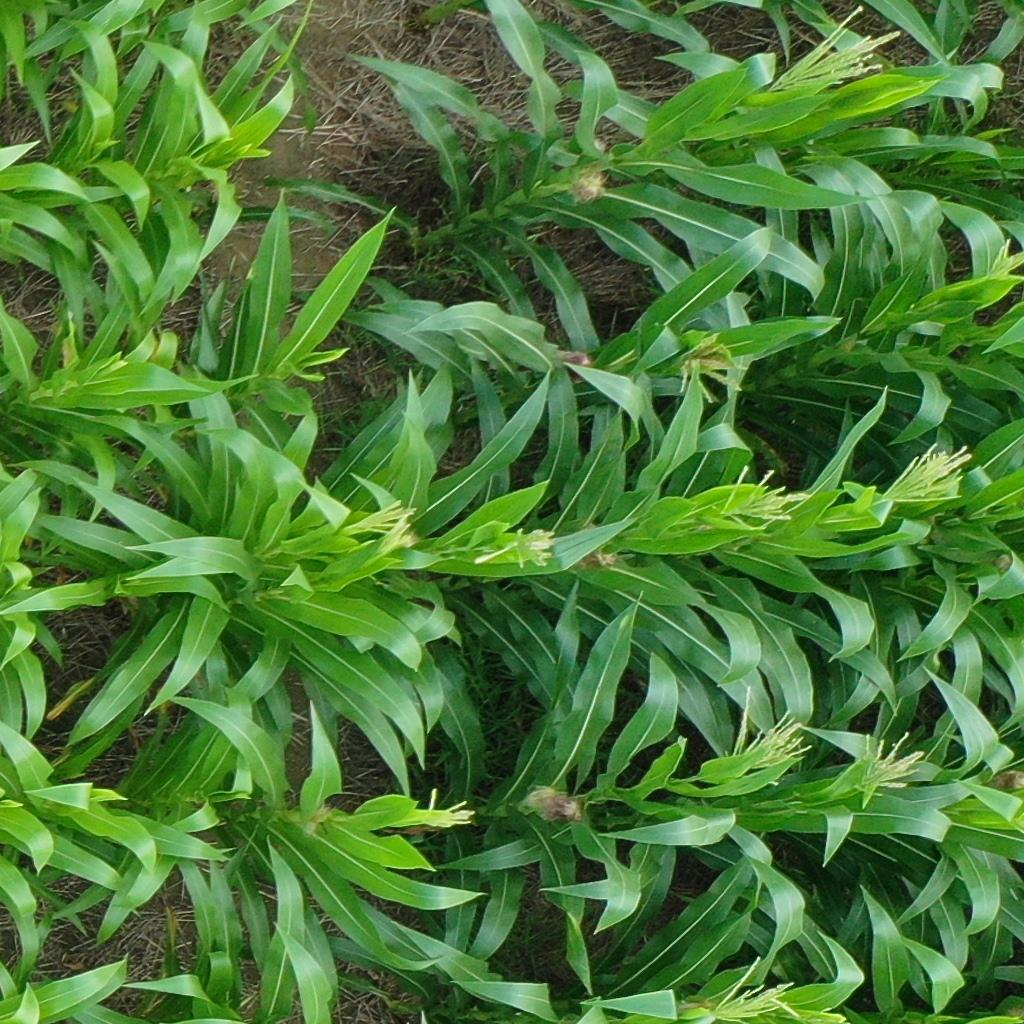Tassel: (761, 4, 900, 98), (727, 684, 812, 790), (707, 955, 801, 1022), (674, 330, 750, 409), (725, 461, 810, 531), (886, 438, 971, 504), (857, 728, 923, 804), (351, 496, 420, 556), (475, 523, 552, 573), (424, 784, 477, 833), (988, 238, 1017, 284)
